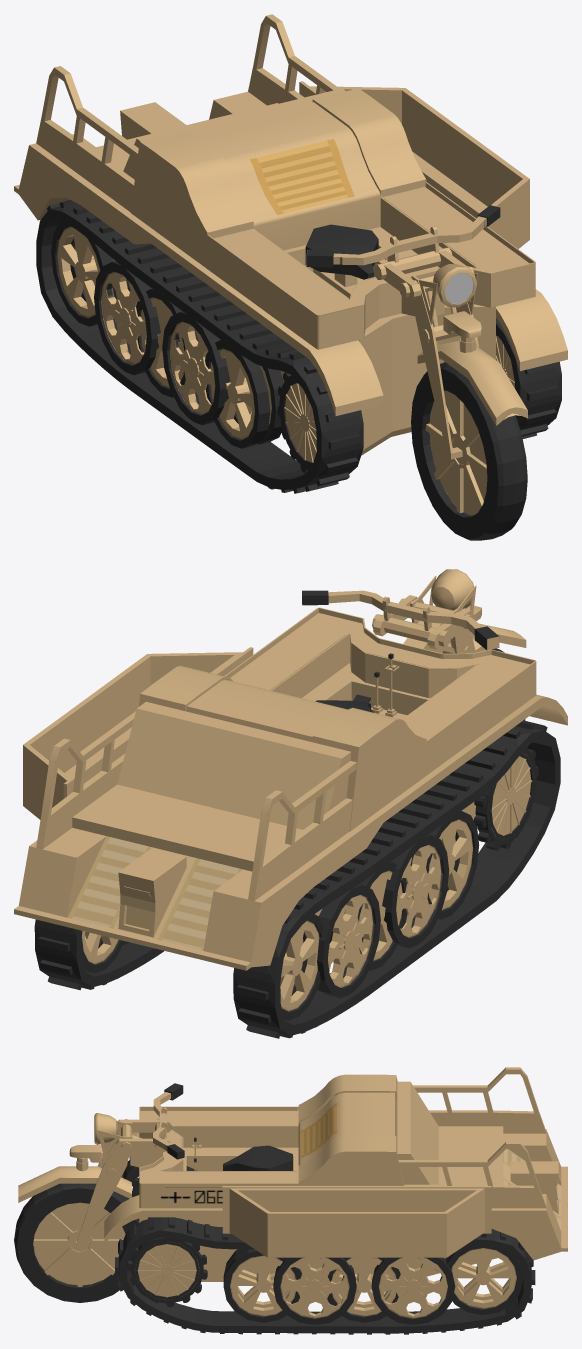
Rendered from Kettenkrad2.fbx.
3 views of the same model, one above another, from view 1: azimuth 30°, elevation 25°; view 2: azimuth 150°, elevation 25°; view 3: azimuth 270°, elevation 25° (orthographic). The views are drawn at different scales.
Visible parts, largest first — view 1: 立方體.027, leftTrack.001, 立方體.026, 立方體.037, 圓柱體.010, 立方體.038, 立方體.035, 立方體.036, rightWheel4.001, rightWheel1.001, rightWheel2.001, rightWheel5.001 (+13 smaller); view 2: 立方體.039, leftTrack.001, 立方體.026, 立方體.037, 立方體.027, 立方體.035, 立方體.036, 立方體.038, rightWheel4.001, rightWheel2.001, rightTrack.001, rightWheel.001 (+7 smaller); view 3: 立方體.038, rightTrack.001, 立方體.027, 立方體.026, 圓柱體.010, 立方體.039, 立方體.037, 立方體.036, 立方體.035, leftWheel.001, leftWheel4.001, leftWheel2.001 (+14 smaller).
Boxes of the visible parts, left/top/right/bottom form: 立方體.027: left=130, top=88, right=426, bottom=268; leftTrack.001: left=36, top=200, right=363, bottom=493; 立方體.026: left=207, top=182, right=535, bottom=349; 立方體.037: left=14, top=91, right=567, bottom=416; 圓柱體.010: left=411, top=362, right=527, bottom=540; 立方體.038: left=299, top=81, right=529, bottom=248; 立方體.035: left=120, top=102, right=495, bottom=455; 立方體.036: left=36, top=14, right=339, bottom=211; rightWheel4.001: left=94, top=261, right=160, bottom=375; rightWheel1.001: left=205, top=340, right=283, bottom=448; rightWheel2.001: left=162, top=311, right=230, bottom=425; rightWheel5.001: left=51, top=221, right=130, bottom=326; 立方體.039: left=72, top=701, right=351, bottom=871; leftTrack.001: left=233, top=720, right=560, bottom=1038; 立方體.026: left=224, top=607, right=536, bottom=775; 立方體.037: left=14, top=694, right=567, bottom=970; 立方體.027: left=139, top=665, right=426, bottom=831; 立方體.035: left=68, top=663, right=475, bottom=950; 立方體.036: left=36, top=711, right=356, bottom=900; 立方體.038: left=23, top=647, right=253, bottom=819; rightWheel4.001: left=317, top=884, right=380, bottom=998; rightWheel2.001: left=382, top=834, right=449, bottom=948; rightTrack.001: left=34, top=919, right=163, bottom=990; rightWheel.001: left=474, top=747, right=538, bottom=850; 立方體.038: left=222, top=1186, right=491, bottom=1257; rightTrack.001: left=115, top=1217, right=535, bottom=1334; 立方體.027: left=298, top=1074, right=404, bottom=1185; 立方體.026: left=139, top=1106, right=298, bottom=1208; 圓柱體.010: left=14, top=1183, right=139, bottom=1302; 立方體.039: left=397, top=1081, right=503, bottom=1185; 立方體.037: left=104, top=1129, right=567, bottom=1260; 立方體.036: left=398, top=1067, right=546, bottom=1208; 立方體.035: left=139, top=1147, right=561, bottom=1281; leftWheel.001: left=127, top=1237, right=207, bottom=1307; leftWheel4.001: left=371, top=1257, right=455, bottom=1324; leftWheel2.001: left=273, top=1257, right=356, bottom=1324.
Bounding box in the file's own units: 10.66 × 8.83 × 22.83.
